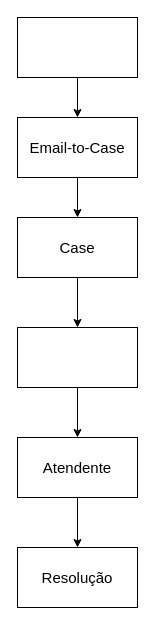
Image size: 155x625. Some labels were removed from this diagram. The centre of each missing label's shape, as x and y in pixels:
"Cliente" goes at point 77,47.
"Fila" goes at point 77,357.
